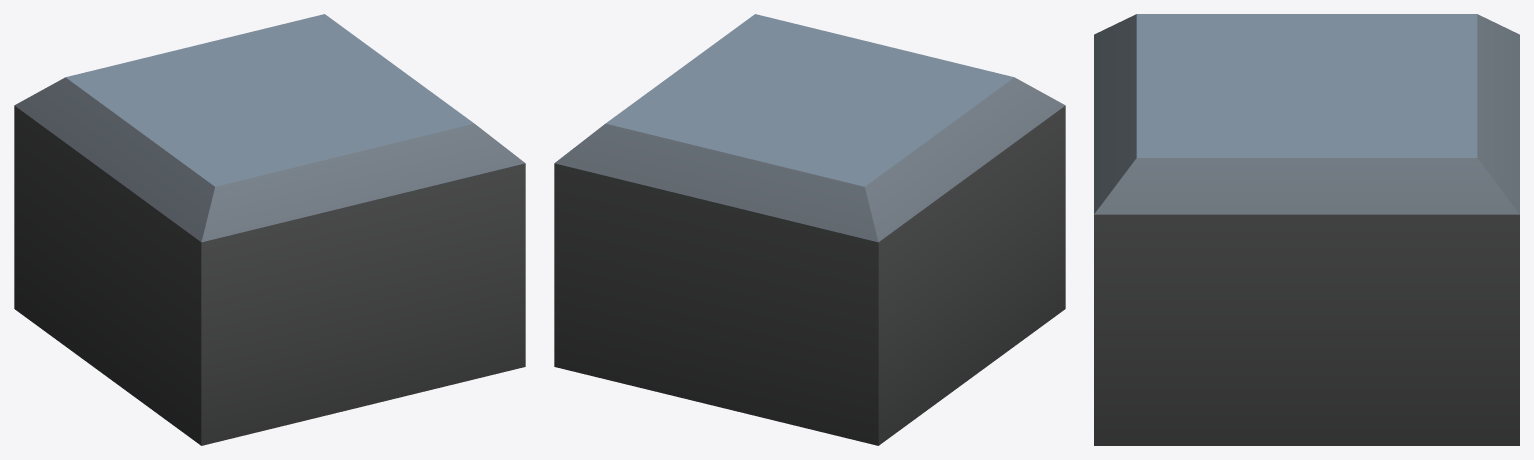
File: satellite.glb
The picture shows the model from 3 angles, left to right: view 1: azimuth 30°, elevation 25°; view 2: azimuth 150°, elevation 25°; view 3: azimuth 270°, elevation 25°; orthographic projection. The views are drawn at different scales.
Visible parts, largest first — view 1: satellite; view 2: satellite; view 3: satellite.
Part boxes in pixels (<box>): satellite: <box>14,14,525,445</box>; satellite: <box>554,14,1065,445</box>; satellite: <box>1094,14,1519,445</box>.
Size of the model in its own units: 0.2 by 0.14 by 0.2.
